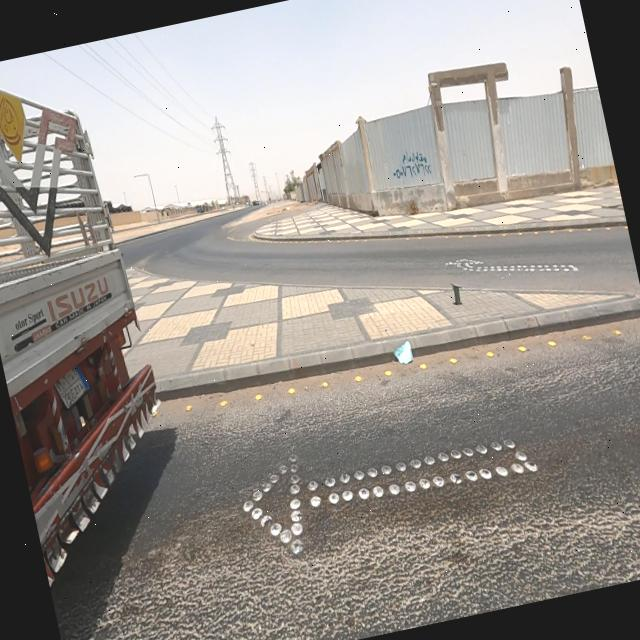Graffiti: (389, 147, 433, 185)
